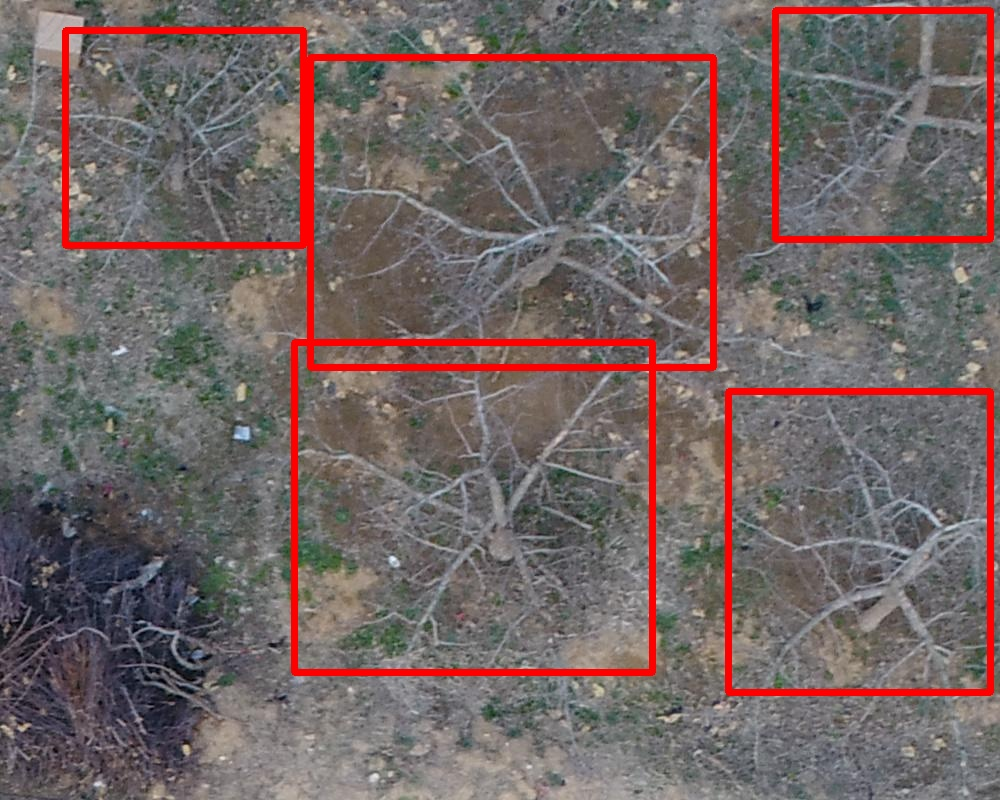apple: (310, 57, 713, 367), (294, 342, 652, 672), (728, 391, 990, 692), (65, 30, 303, 245), (775, 10, 990, 239)
